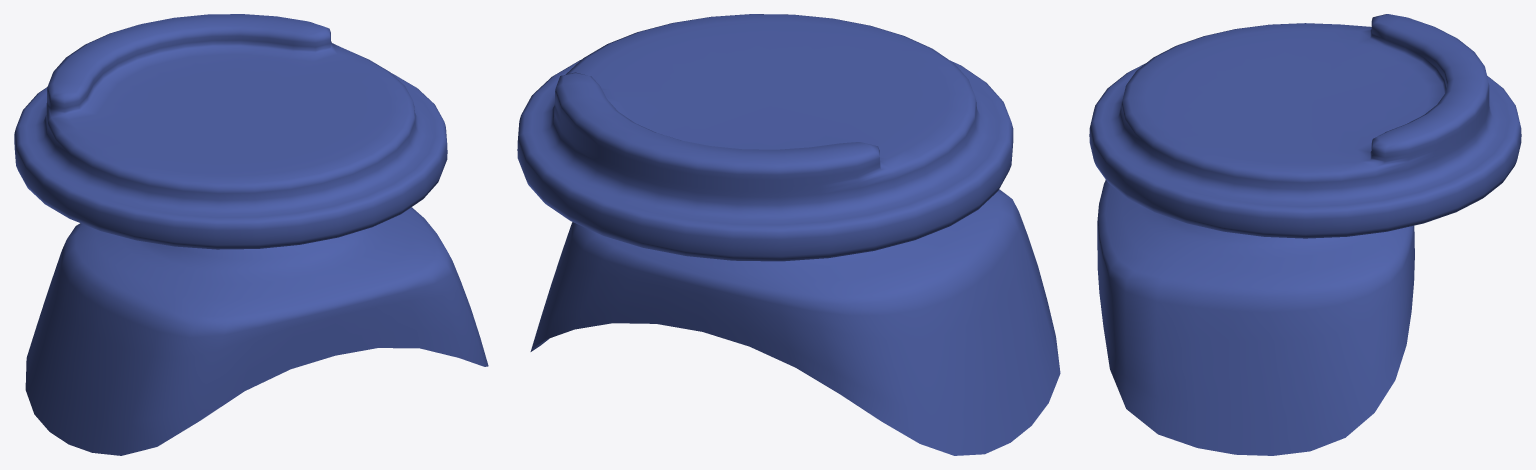
Rendered from Seat only 2.fbx.
3 renders of one model, left to right at view 1: azimuth 30°, elevation 25°; view 2: azimuth 150°, elevation 25°; view 3: azimuth 270°, elevation 25°, orthographic. The views are drawn at different scales.
Visible parts, largest first — view 1: bear_player_seat_30_10_2023.001; view 2: bear_player_seat_30_10_2023.001; view 3: bear_player_seat_30_10_2023.001.
Boxes of the visible parts, x1,y1,x2,y2 form: bear_player_seat_30_10_2023.001: (14,14,488,455); bear_player_seat_30_10_2023.001: (517,14,1060,455); bear_player_seat_30_10_2023.001: (1089,14,1521,455).
Bounding box in the file's own units: 53.64 × 36.76 × 50.98.
